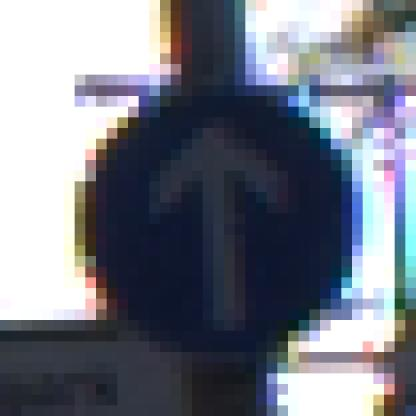AheadOnly: (65, 65, 364, 364)
